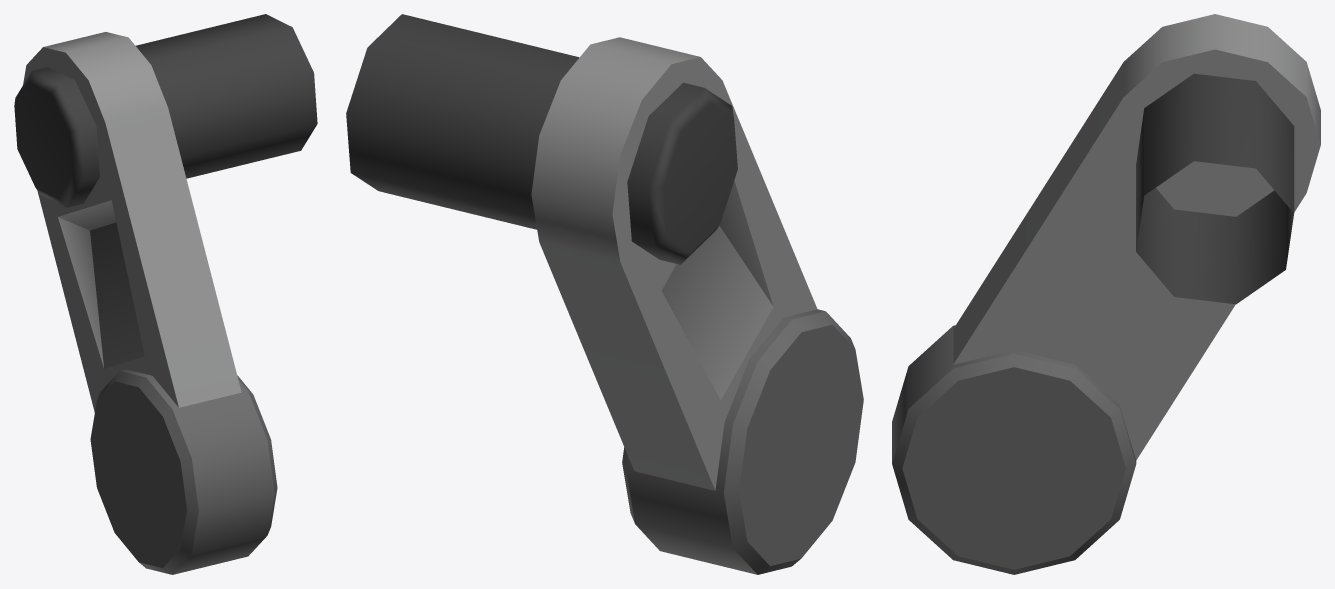
Rendered from Turret_010_Part_02.fbx.
3 views of the same model, side by side, from view 1: azimuth 30°, elevation 25°; view 2: azimuth 150°, elevation 25°; view 3: azimuth 270°, elevation 25° (orthographic). The views are drawn at different scales.
Visible parts, largest first — view 1: Turret_010_Part_02; view 2: Turret_010_Part_02; view 3: Turret_010_Part_02.
Part boxes in pixels (bbox=[...]): Turret_010_Part_02: bbox=[14, 14, 317, 574]; Turret_010_Part_02: bbox=[346, 14, 863, 574]; Turret_010_Part_02: bbox=[892, 14, 1320, 574].
Size of the model in its own units: 30.12 by 40.18 by 53.97.
